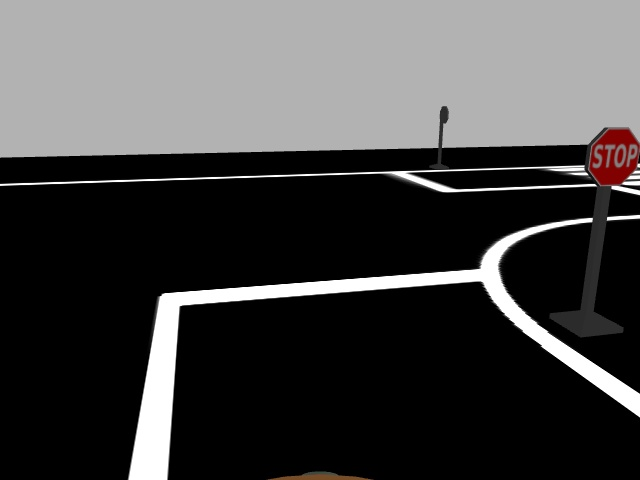stop: (581, 125, 640, 188)
